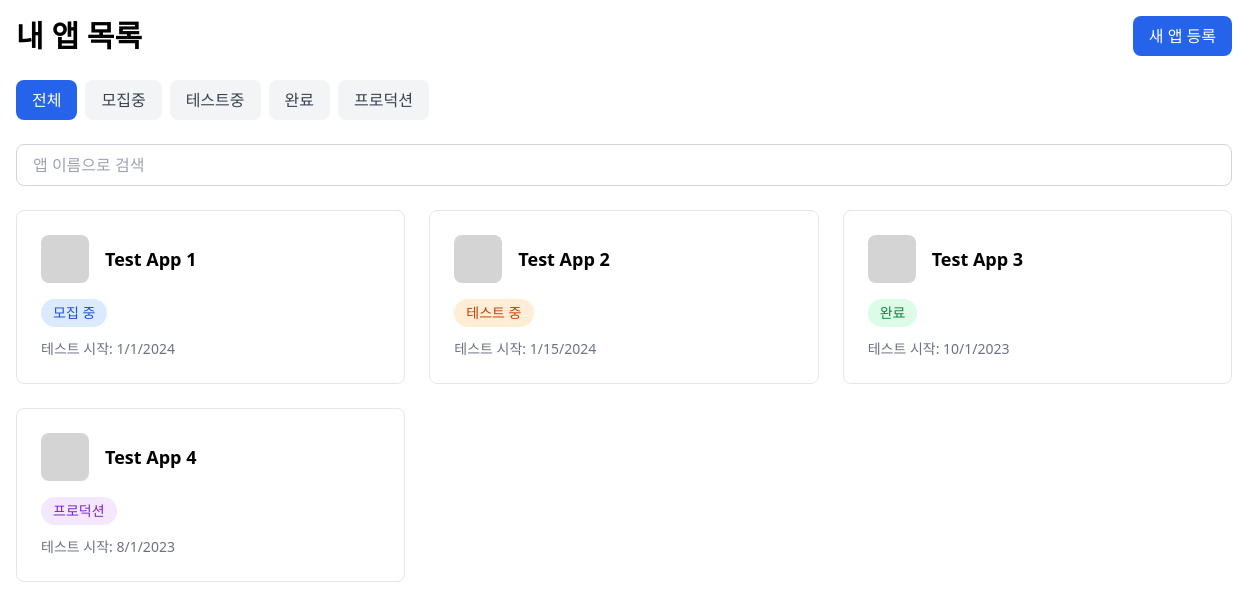
Test: P3-S8: Developer Apps List › 🔴 RED: Status Filter Tabs › should filter apps by IN_TESTING status when "테스트중" tab clicked
Expected: the heading "Test App 1" is shown, [105,247,196,271]
Click the button "테스트중".
click(215, 100)  # box [170,80,260,120]
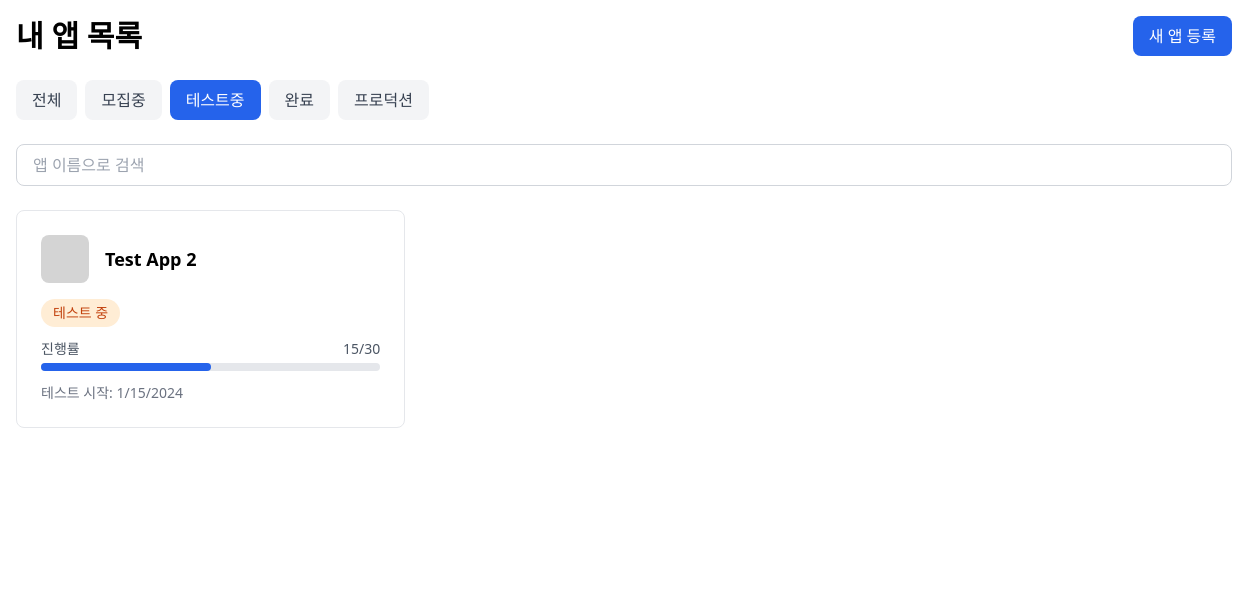
Now the heading "Test App 1" is gone
Now the heading "Test App 3" is gone
Now the heading "Test App 4" is gone
